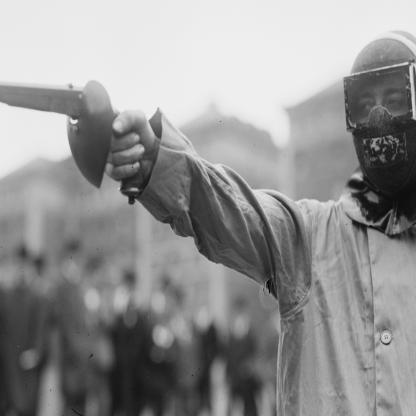gun: (0, 56, 149, 220)
